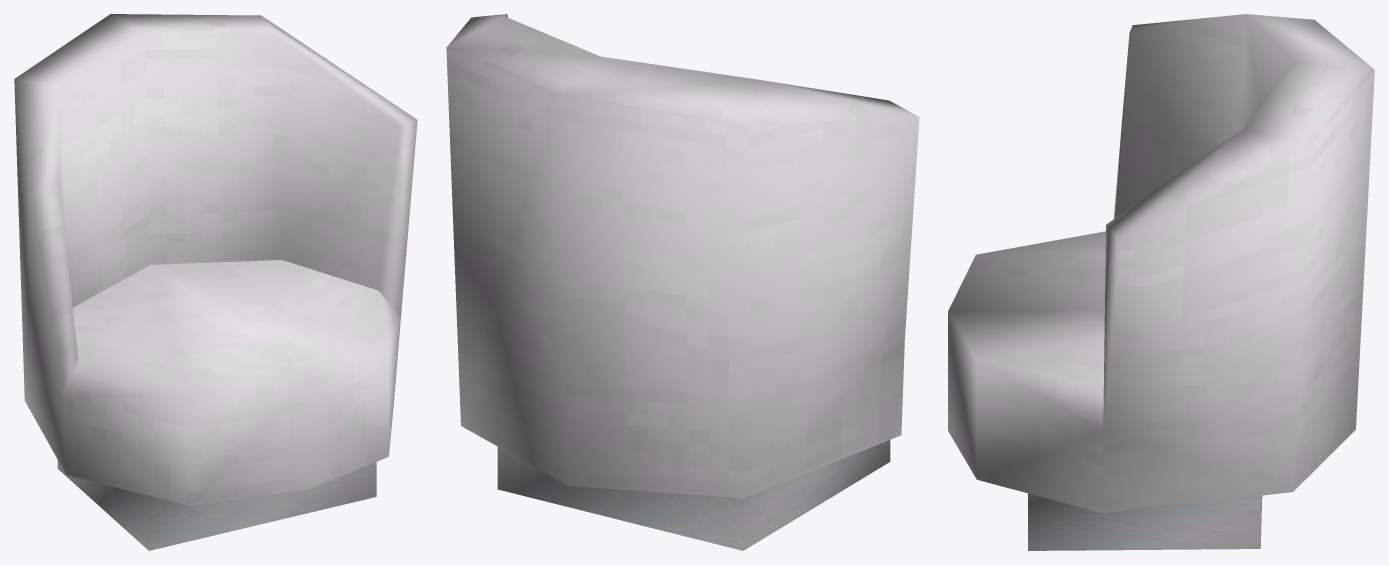
The model's file is frn_all_mdrn_sofa_chair_s01_l2.fbx.
3 views of the same model, side by side, from view 1: azimuth 30°, elevation 25°; view 2: azimuth 150°, elevation 25°; view 3: azimuth 270°, elevation 25° (orthographic). The views are drawn at different scales.
Visible parts, largest first — view 1: mesh_node; view 2: mesh_node; view 3: mesh_node.
Boxes of the visible parts, box(x1,y1,x2,y2) form: mesh_node: box(14, 14, 417, 550); mesh_node: box(446, 14, 919, 550); mesh_node: box(948, 14, 1374, 550).
Bounding box in the file's own units: 1.18 × 1.18 × 1.05.
